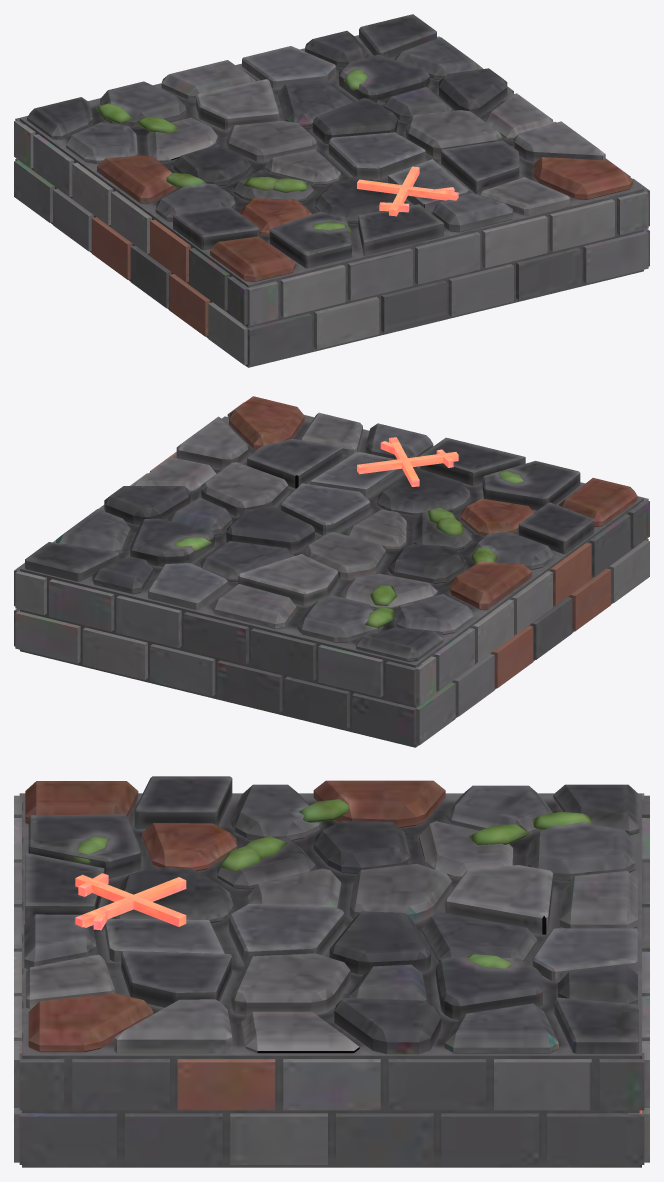
The model's file is plate_1_war.glb.
The picture shows the model from 3 angles, top to bottom: view 1: azimuth 30°, elevation 25°; view 2: azimuth 150°, elevation 25°; view 3: azimuth 270°, elevation 25°; orthographic projection. The views are drawn at different scales.
Parts seen in each view (by area): view 1: plate_1_war; view 2: plate_1_war; view 3: plate_1_war.
Boxes of the visible parts, x1,y1,x2,y2 form: plate_1_war: (14,14,649,367); plate_1_war: (14,396,649,747); plate_1_war: (14,776,649,1167).
Bounding box in the file's own units: 2.01 × 0.484 × 2.01.
1 material, 1 textured.
